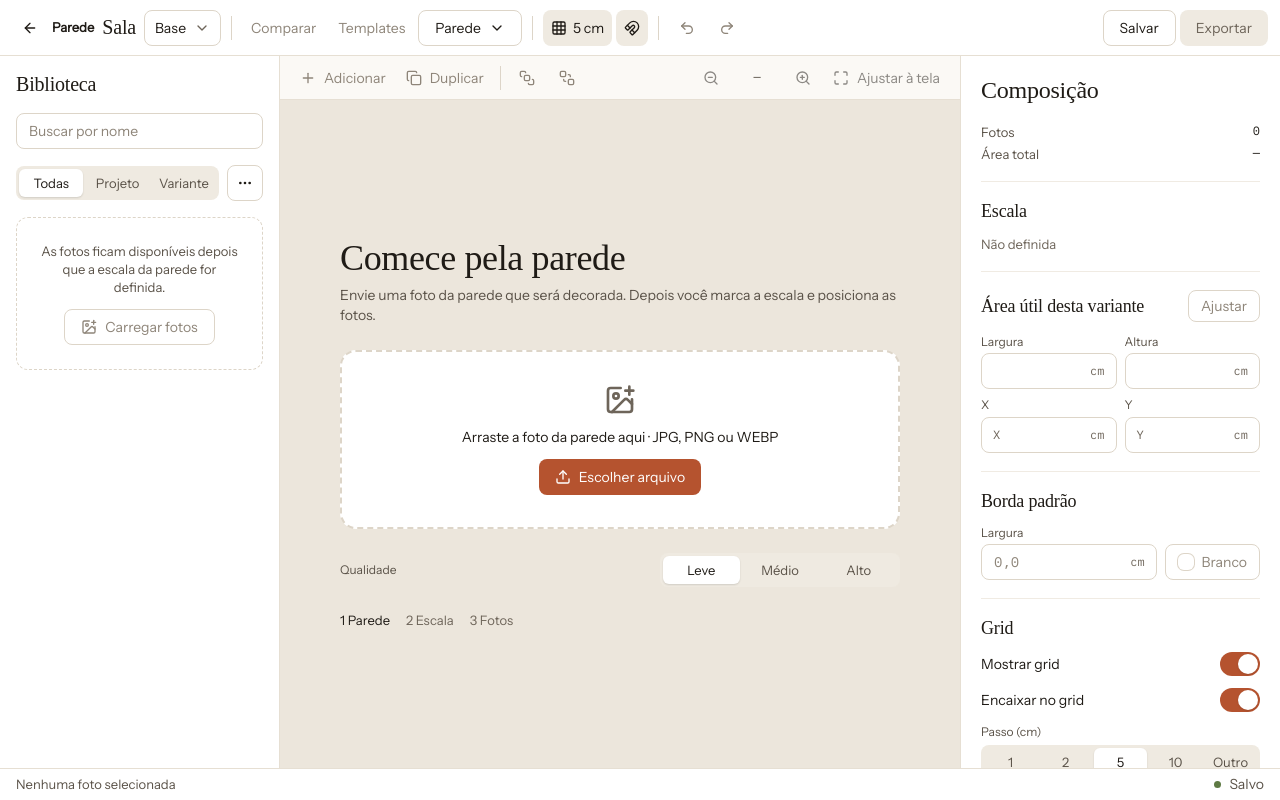
nome do projeto no header (A-02) › clicar no nome edita no lugar e Enter grava
Click the button "Sala" at (119,28), box [98, 15, 140, 40]
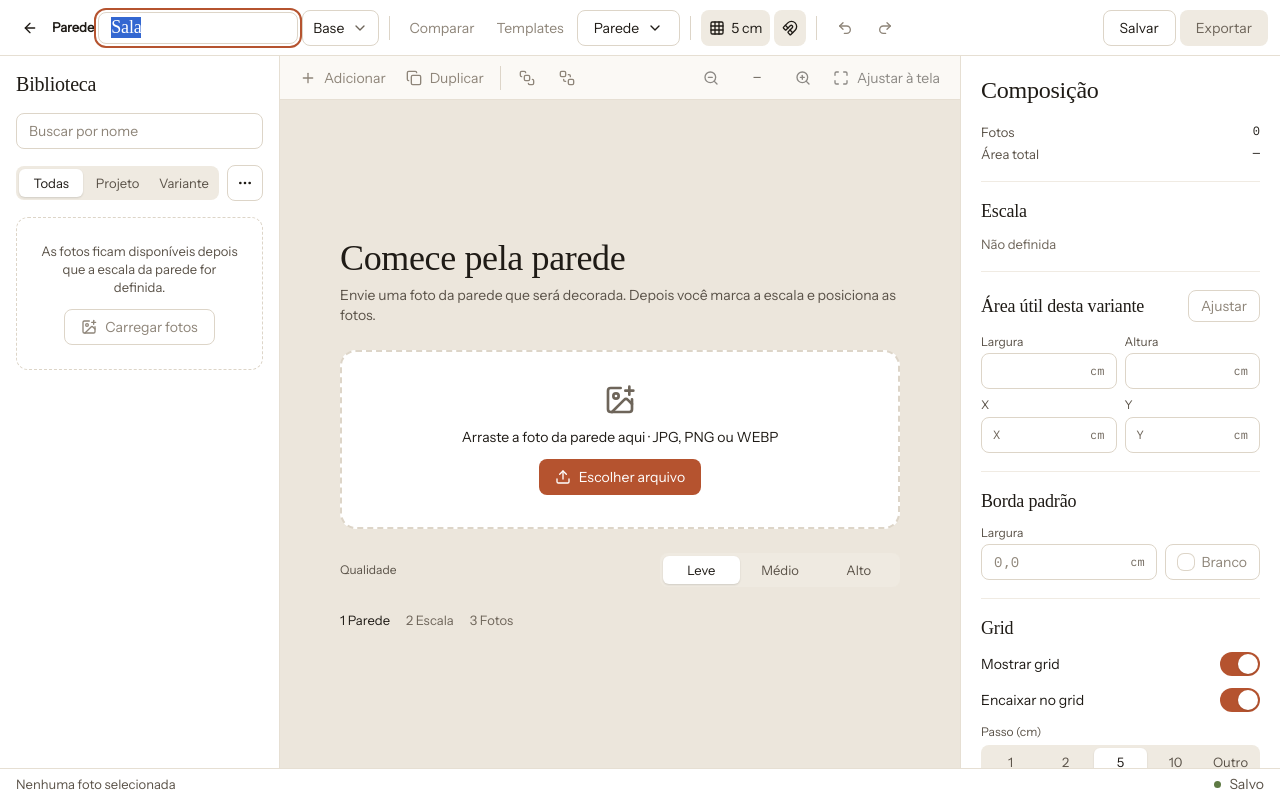
Replace the text in the field named "Nome do projeto" with "Corredor" at (198,28), box [98, 12, 298, 44]
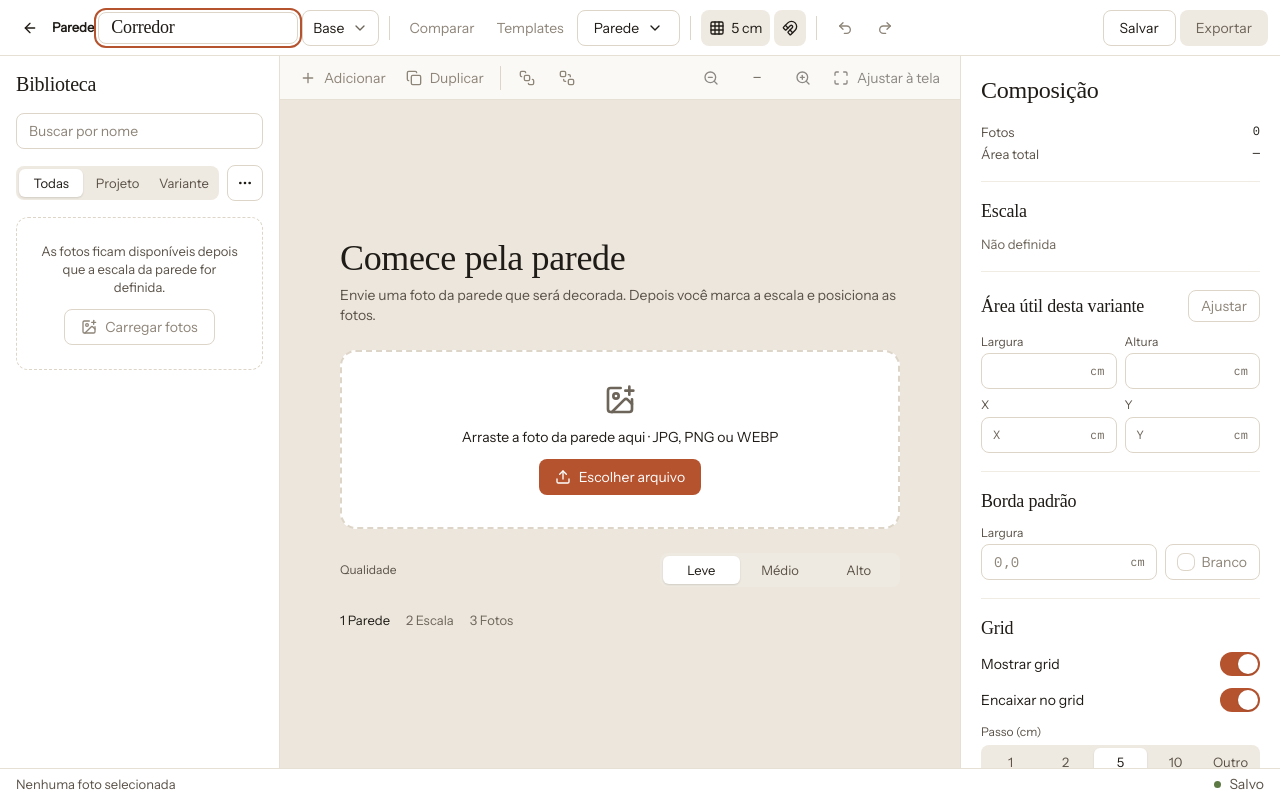
Press Enter in the field named "Nome do projeto", box [98, 12, 298, 44]
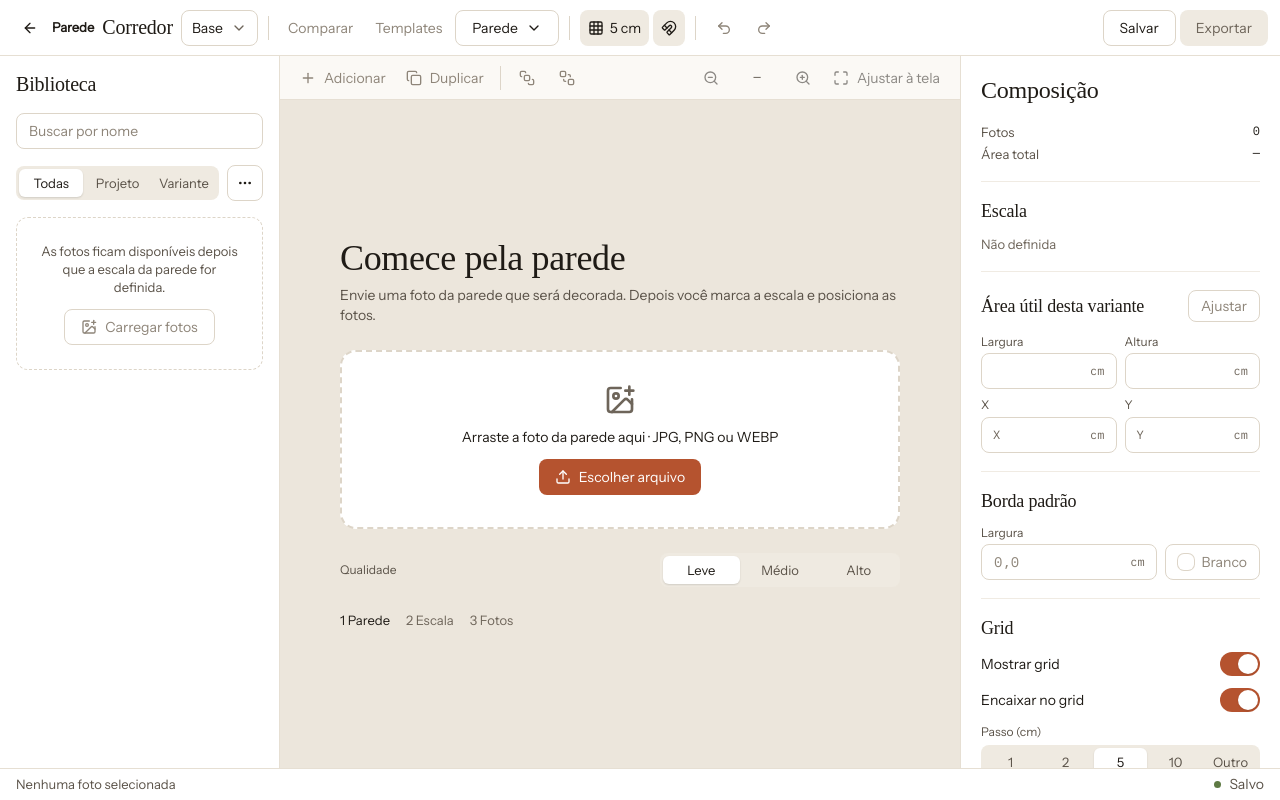
expect the heading "Corredor" is shown: met, box [98, 15, 177, 40]
